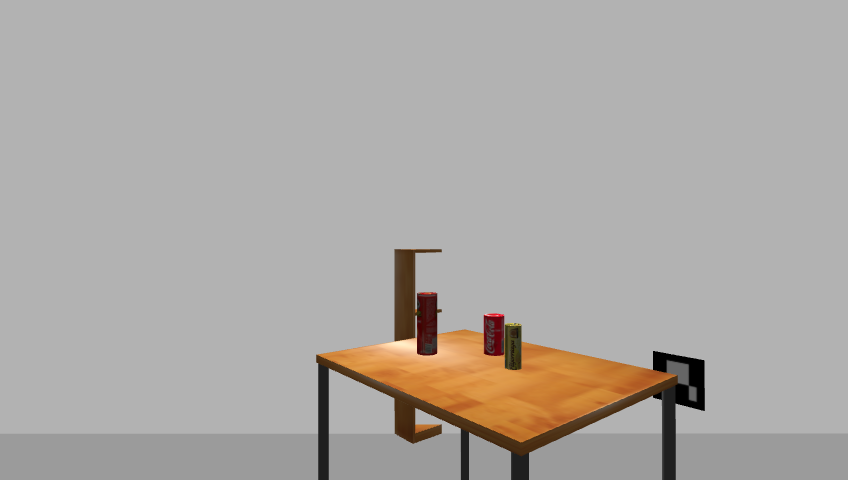aruco marker: (647, 349, 710, 413)
biscuits pack: (505, 324, 524, 371)
bookshelf: (390, 245, 446, 448)
coke can: (481, 313, 506, 357)
dinner table: (310, 329, 686, 480)
pringles can: (415, 292, 439, 357)
